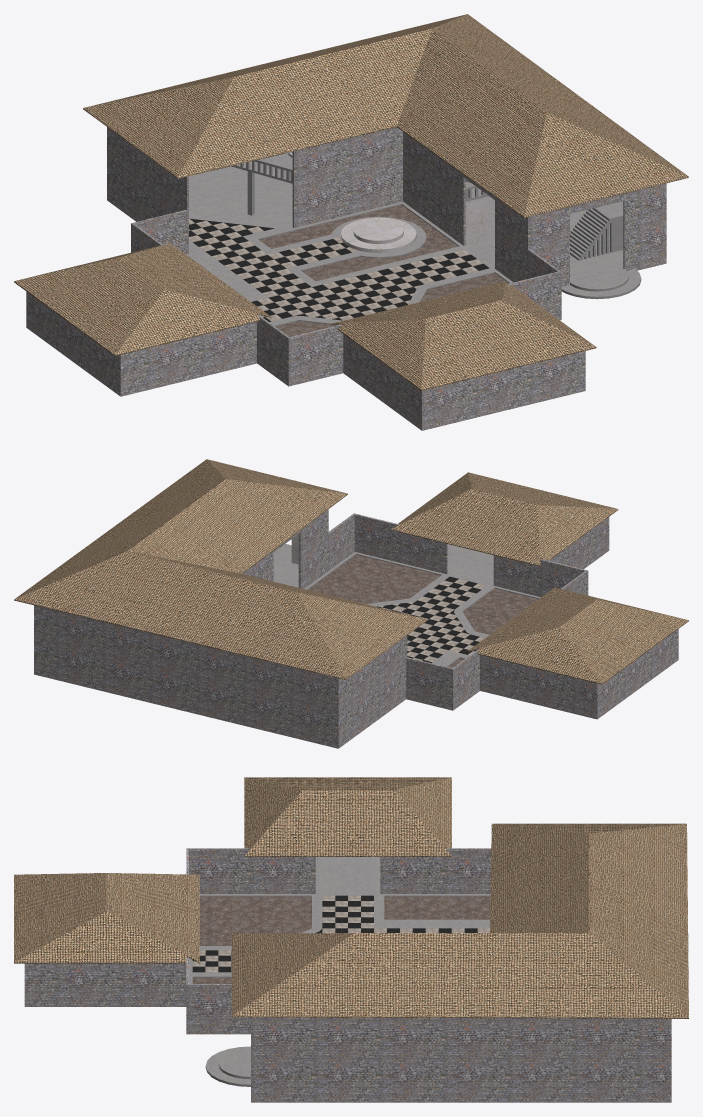
The model's file is Newcomers_Guild.dae.
The picture shows the model from 3 angles, top to bottom: view 1: azimuth 30°, elevation 25°; view 2: azimuth 150°, elevation 25°; view 3: azimuth 270°, elevation 25°; orthographic projection. The views are drawn at different scales.
Parts seen in each view (by area): view 1: SketchUp (×10); view 2: SketchUp (×7); view 3: SketchUp (×7).
Part boxes in pixels (x1=…): SketchUp (×10): x1=14, y1=14, x2=688, y2=430; SketchUp (×7): x1=14, y1=459, x2=688, y2=748; SketchUp (×7): x1=14, y1=777, x2=688, y2=1102.
Size of the model in its own units: 2054 by 2054 by 453.
Materials: 10 (8 with a texture image).
